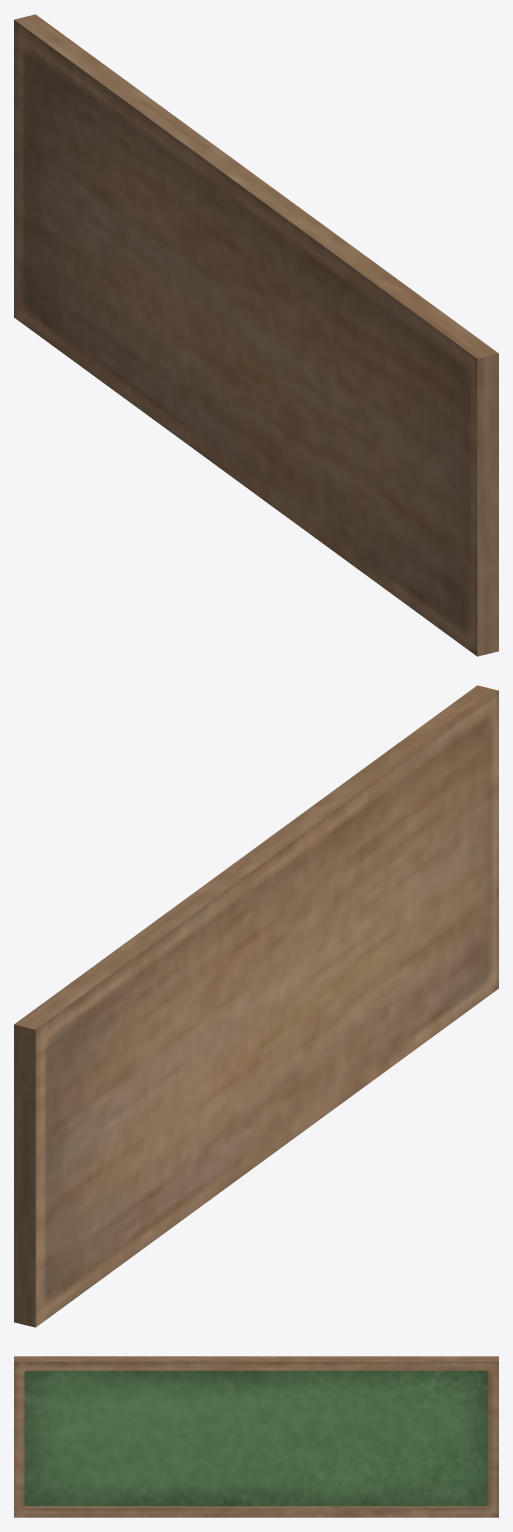
File: cork_board.fbx
The picture shows the model from 3 angles, top to bottom: view 1: azimuth 30°, elevation 25°; view 2: azimuth 150°, elevation 25°; view 3: azimuth 270°, elevation 25°; orthographic projection. The views are drawn at different scales.
Visible parts, largest first — view 1: pCube12; view 2: pCube12; view 3: pCube12.
Boxes of the visible parts, box(x1,y1,x2,y2) form: pCube12: box(14, 14, 498, 656); pCube12: box(14, 685, 498, 1327); pCube12: box(14, 1356, 498, 1517).
Bounding box in the file's own units: 0.3924 × 5.16 × 14.56.
1 material, 1 textured.
